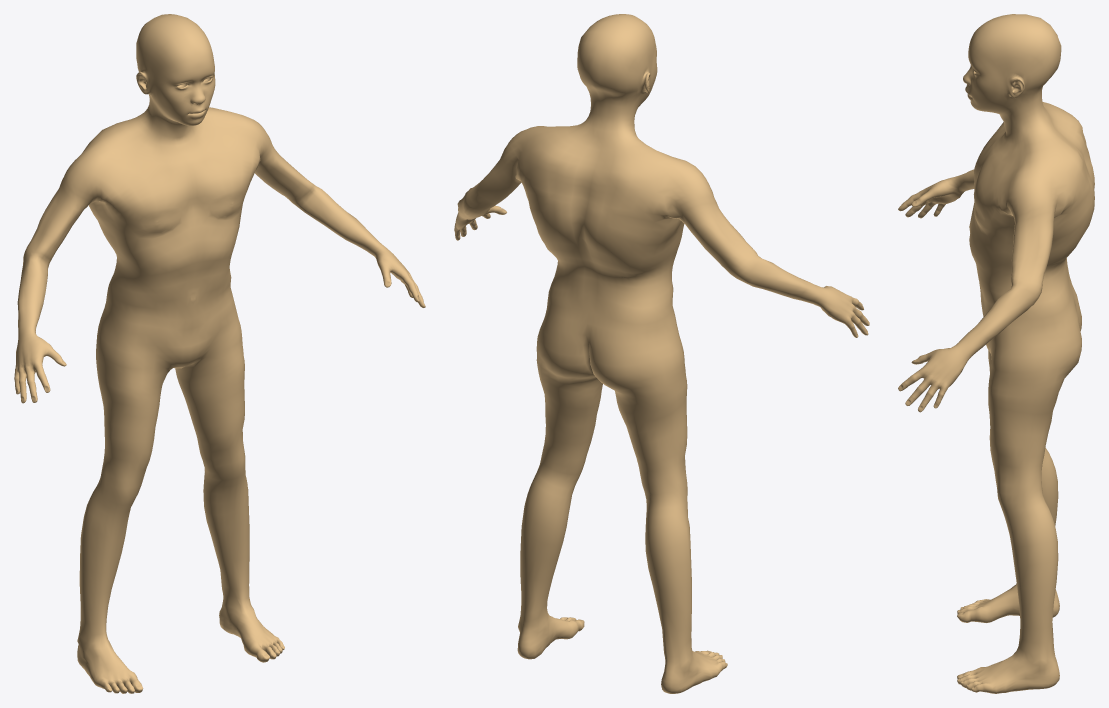
3 renders of one model, left to right at view 1: azimuth 30°, elevation 25°; view 2: azimuth 150°, elevation 25°; view 3: azimuth 270°, elevation 25°, orthographic.
Parts seen in each view (by area): view 1: Human; view 2: Human; view 3: Human.
Boxes of the visible parts, x1,y1,x2,y2 form: Human: [14, 14, 425, 693]; Human: [454, 14, 869, 693]; Human: [898, 14, 1094, 693].
Bounding box in the file's own units: 0.7567 × 1.15 × 0.3225.
